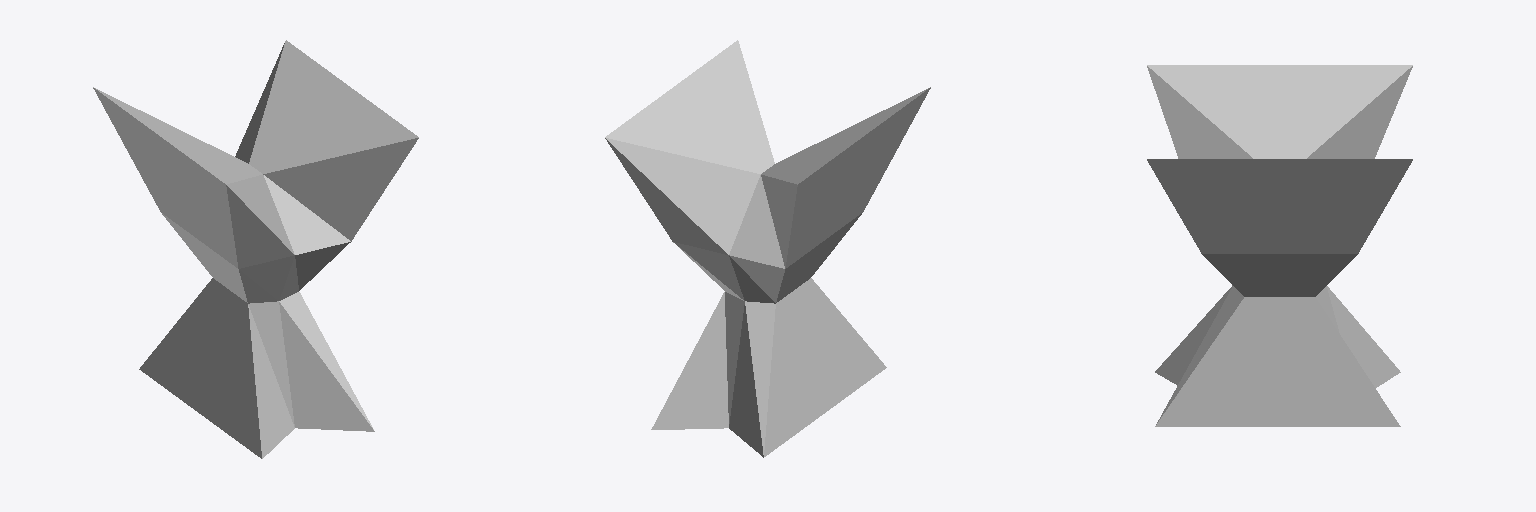
The model's file is tanaman.obj.
3 renders of one model, left to right at view 1: azimuth 30°, elevation 25°; view 2: azimuth 150°, elevation 25°; view 3: azimuth 270°, elevation 25°, orthographic.
Visible parts, largest first — view 1: Cube; view 2: Cube; view 3: Cube.
Boxes of the visible parts, <box> form: Cube: <box>93,40,418,458</box>; Cube: <box>605,40,930,457</box>; Cube: <box>1147,65,1412,426</box>.
Size of the model in its own units: 1.08 by 1.53 by 1.29.